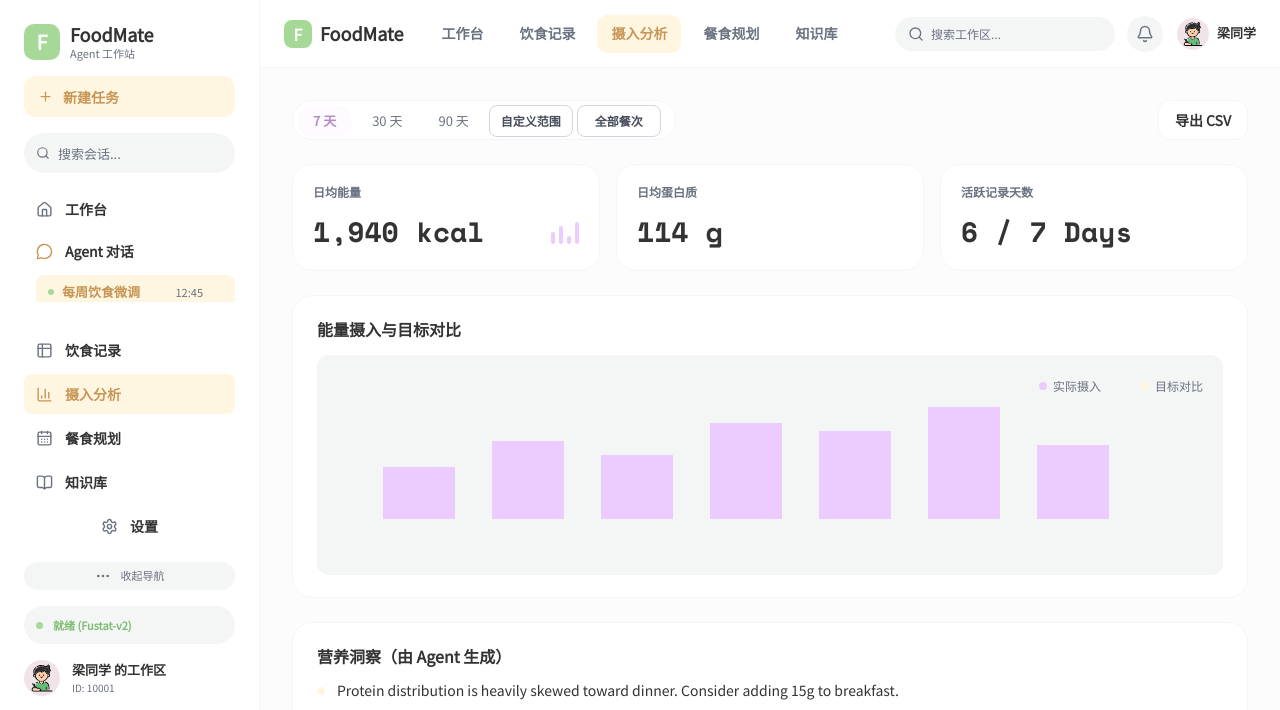
AnalysisPage › updates summary metrics when the range changes
This screenshot has width=1280, height=710.
Click the tab "30 天" at {"x": 387, "y": 121}, box [356,105,418,137]
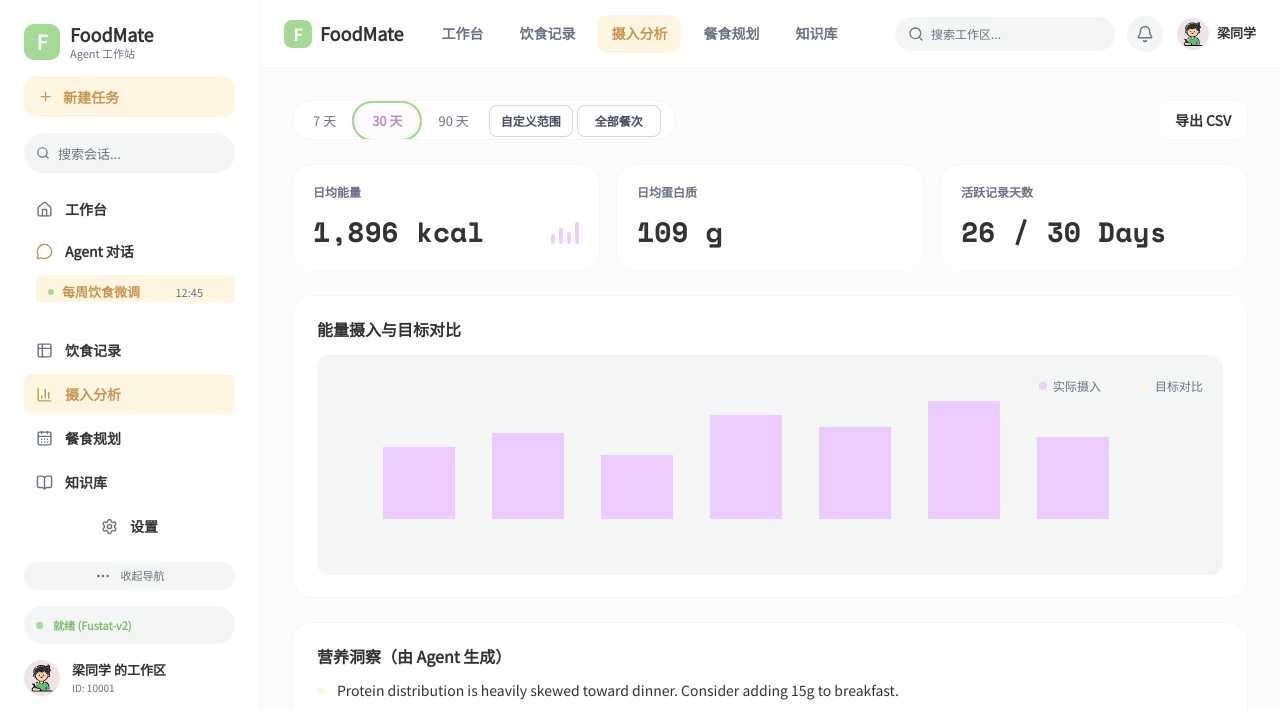
Check: the text "1,896 kcal" is shown, box [313,211,484,252]
Check: the text "26 / 30 Days" is shown, box [961,211,1167,252]
